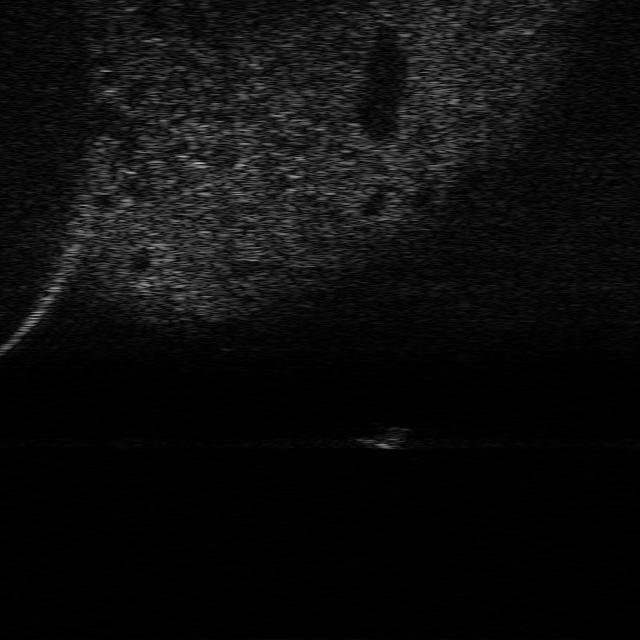cube: (352, 423, 410, 451)
